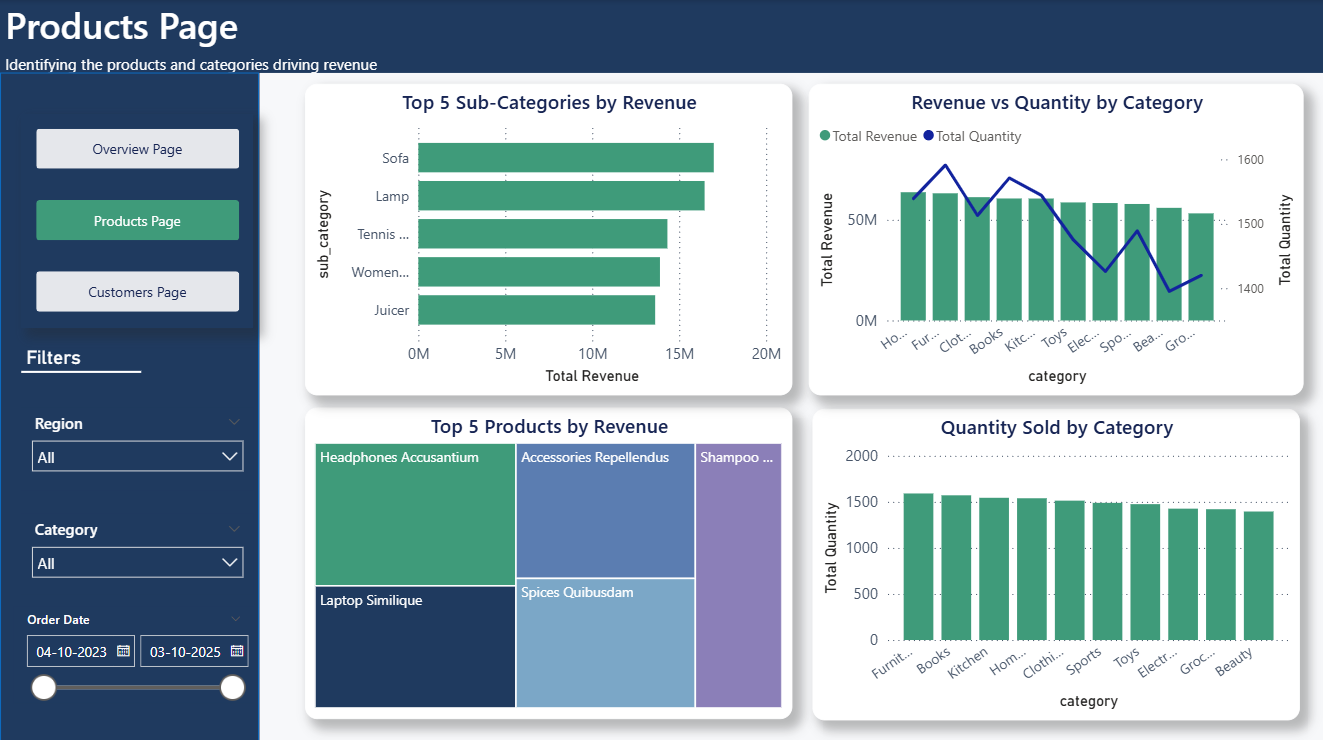

The dashboard page shown, as its layout file describes it:
{"tool":"powerbi","page":{"name":"Products Page","canvas":[1280,720],"ordinal":1},"visuals":[{"type":"treemap","title":"Top 5 Products by Revenue","fields":{"Group":["ecommerce_sales.product_name"],"Values":["ecommerce_sales.Total Revenue"]},"box":[294.4,393.3,470.5,300.4],"z":0},{"type":"clusteredBarChart","title":"Top 5 Sub-Categories by Revenue","fields":{"Category":["ecommerce_sales.sub_category"],"Y":["ecommerce_sales.Total Revenue"]},"box":[294.4,80.8,470.5,300.4],"z":1000},{"type":"clusteredColumnChart","title":"Quantity Sold by Category","fields":{"Category":["ecommerce_sales.category"],"Y":["ecommerce_sales.Total Quantity"]},"box":[784.2,394.5,470.5,300.4],"z":2000},{"type":"lineClusteredColumnComboChart","title":"Revenue vs Quantity by Category","fields":{"Category":["ecommerce_sales.category"],"Y":["ecommerce_sales.Total Revenue"],"Y2":["ecommerce_sales.Total Quantity"]},"box":[780.6,80.8,477.8,300.4],"z":3000},{"type":"textbox","title":"Products Page","box":[0,0,1280,70],"z":4000},{"type":"shape","box":[0,70,250,650],"z":5000},{"type":"slicer","title":"Region","fields":{"Values":["ecommerce_sales.region"]},"box":[20.5,393.3,224.4,79.6],"z":7000},{"type":"slicer","fields":{"Values":["ecommerce_sales.category"]},"box":[20.5,495.8,224.4,77.2],"z":8000},{"type":"slicer","fields":{"Values":["ecommerce_sales.order_date"]},"box":[13.3,585.1,231.6,92.9],"z":9000},{"type":"pageNavigator","box":[20.5,109.8,224.4,206.3],"z":10000},{"type":"textbox","title":"Filters","box":[20.5,334.2,200.3,25.3],"z":11000},{"type":"shape","box":[20.5,347.5,115.8,22.9],"z":12000}]}

Visuals, with their boxes in screenshot pixels (x1, y1, x2, y2), scaled from the page's 1280x720 canvas onto the 1323x740 screenshot:
"Top 5 Products by Revenue" treemap: (x1=304, y1=404, x2=791, y2=713)
"Top 5 Sub-Categories by Revenue" clusteredBarChart: (x1=304, y1=83, x2=791, y2=392)
"Quantity Sold by Category" clusteredColumnChart: (x1=811, y1=405, x2=1297, y2=714)
"Revenue vs Quantity by Category" lineClusteredColumnComboChart: (x1=807, y1=83, x2=1301, y2=392)
"Products Page" textbox: (x1=0, y1=0, x2=1322, y2=72)
shape: (x1=0, y1=72, x2=258, y2=739)
"Region" slicer: (x1=21, y1=404, x2=253, y2=486)
slicer - ecommerce_sales.category: (x1=21, y1=510, x2=253, y2=589)
slicer - ecommerce_sales.order_date: (x1=14, y1=601, x2=253, y2=697)
pageNavigator: (x1=21, y1=113, x2=253, y2=325)
"Filters" textbox: (x1=21, y1=343, x2=228, y2=369)
shape: (x1=21, y1=357, x2=141, y2=381)
